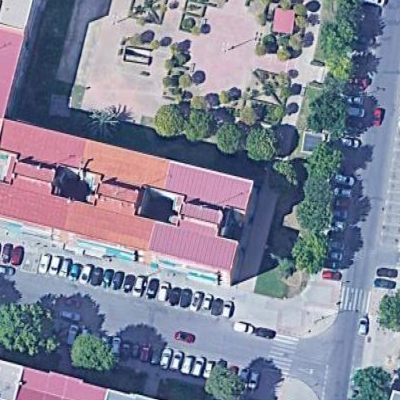tree: (1, 296, 62, 361), (68, 331, 118, 378), (307, 90, 350, 136), (291, 231, 334, 273), (294, 194, 337, 236), (347, 363, 393, 400), (204, 362, 249, 398), (325, 11, 363, 52), (246, 122, 279, 165), (153, 99, 184, 140), (375, 285, 400, 335), (311, 142, 353, 171), (301, 173, 341, 201), (182, 112, 213, 144), (268, 158, 298, 191), (214, 121, 242, 156), (326, 57, 356, 88), (191, 90, 207, 110)
